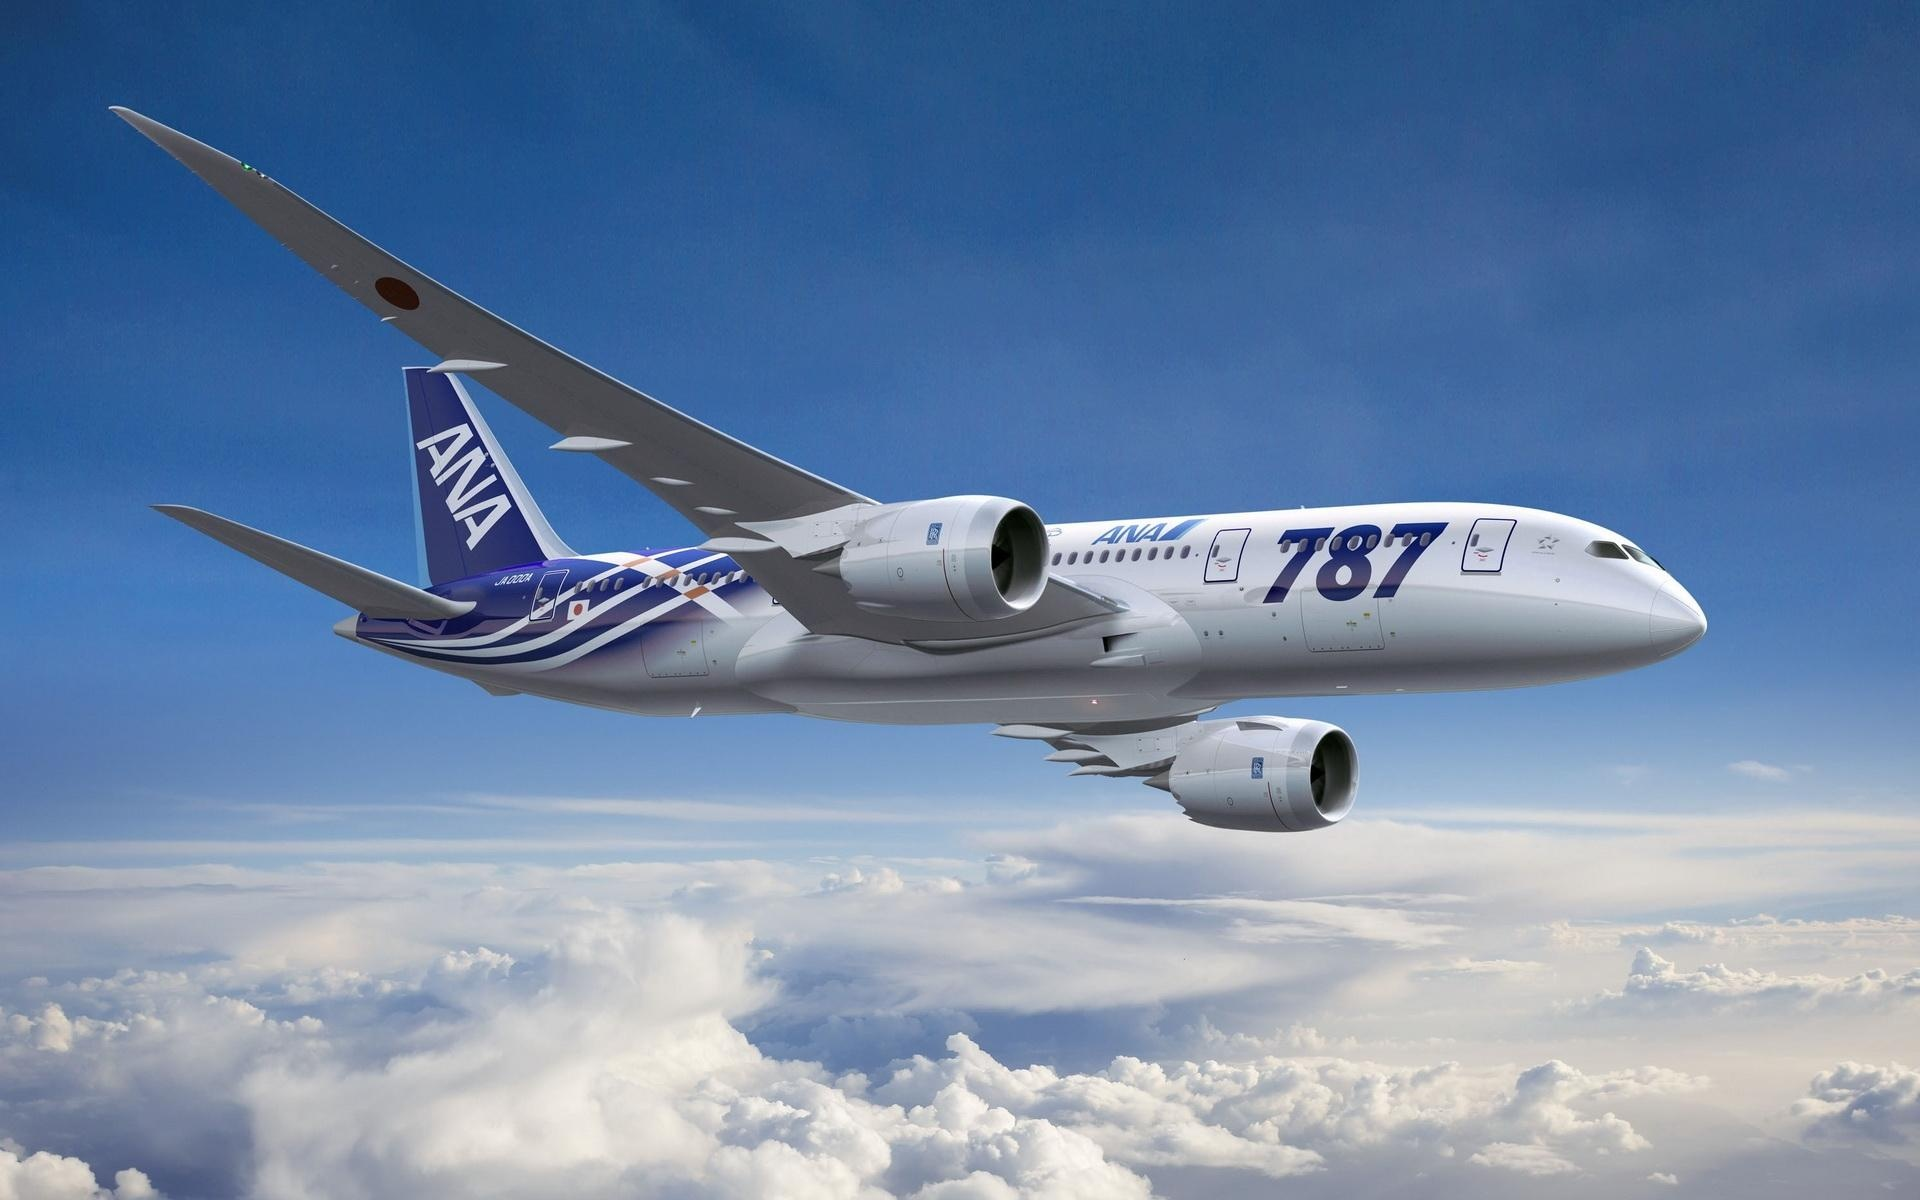airplane: (95, 105, 1711, 834)
